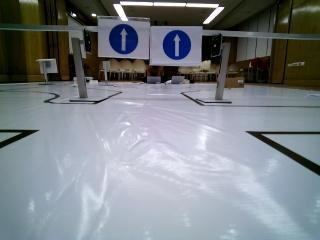straight: (96, 18, 149, 58), (151, 26, 202, 65)
